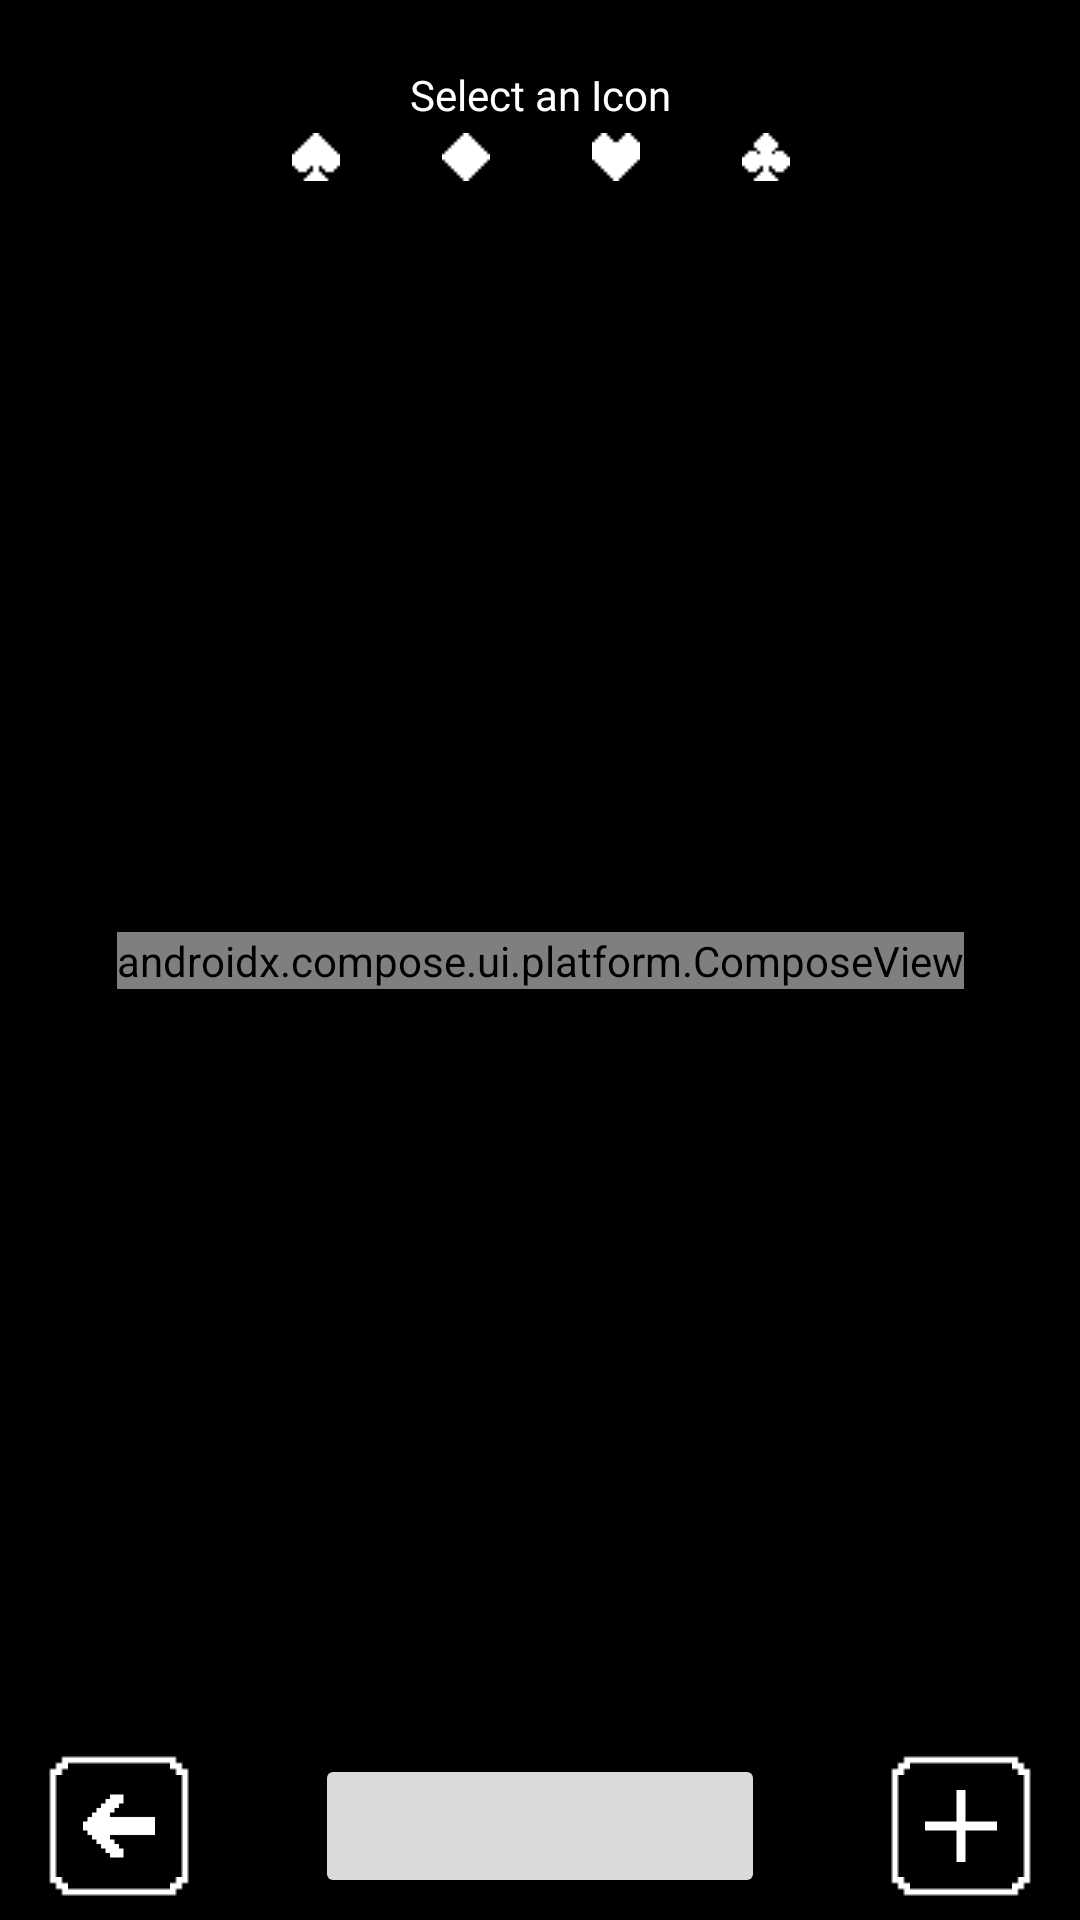

Named icons in this screenshot (1080 x 1920) and their bounding boxes, (x1, y1, x2, y2):
Clubs icon group: (742, 133, 790, 181)
Diamonds icon group: (442, 133, 490, 181)
Hearts icon group: (592, 133, 640, 181)
Navigate to the New Quest page: (891, 1756, 1031, 1896)
Spades icon group: (292, 133, 340, 181)
